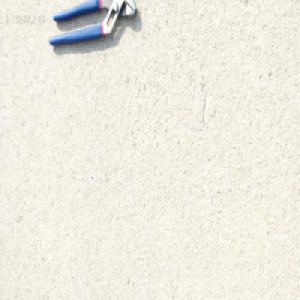Pliers: (48, 0, 137, 47)
